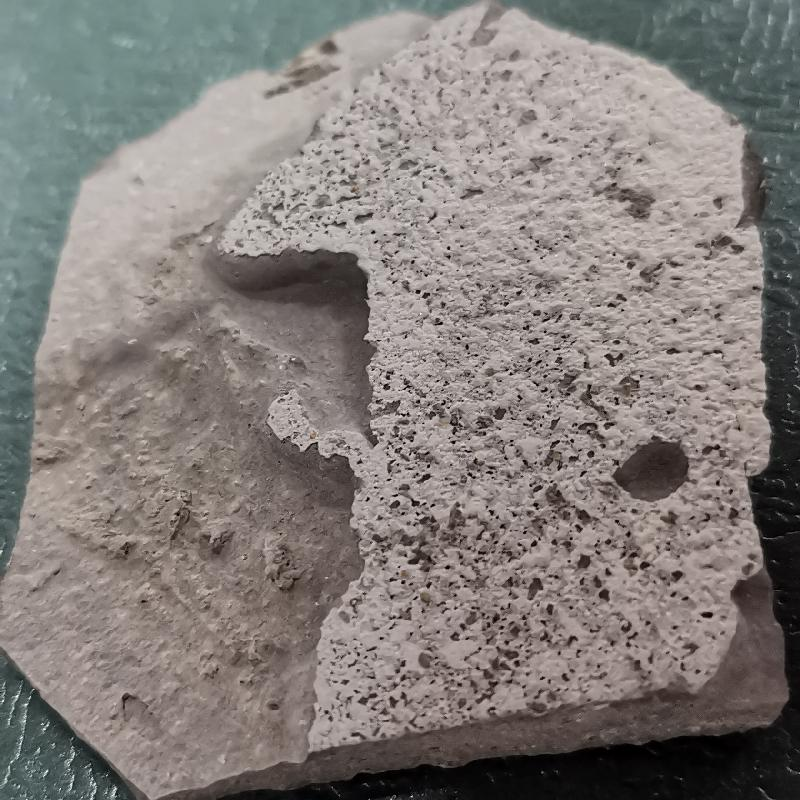tile: (22, 39, 800, 800)
